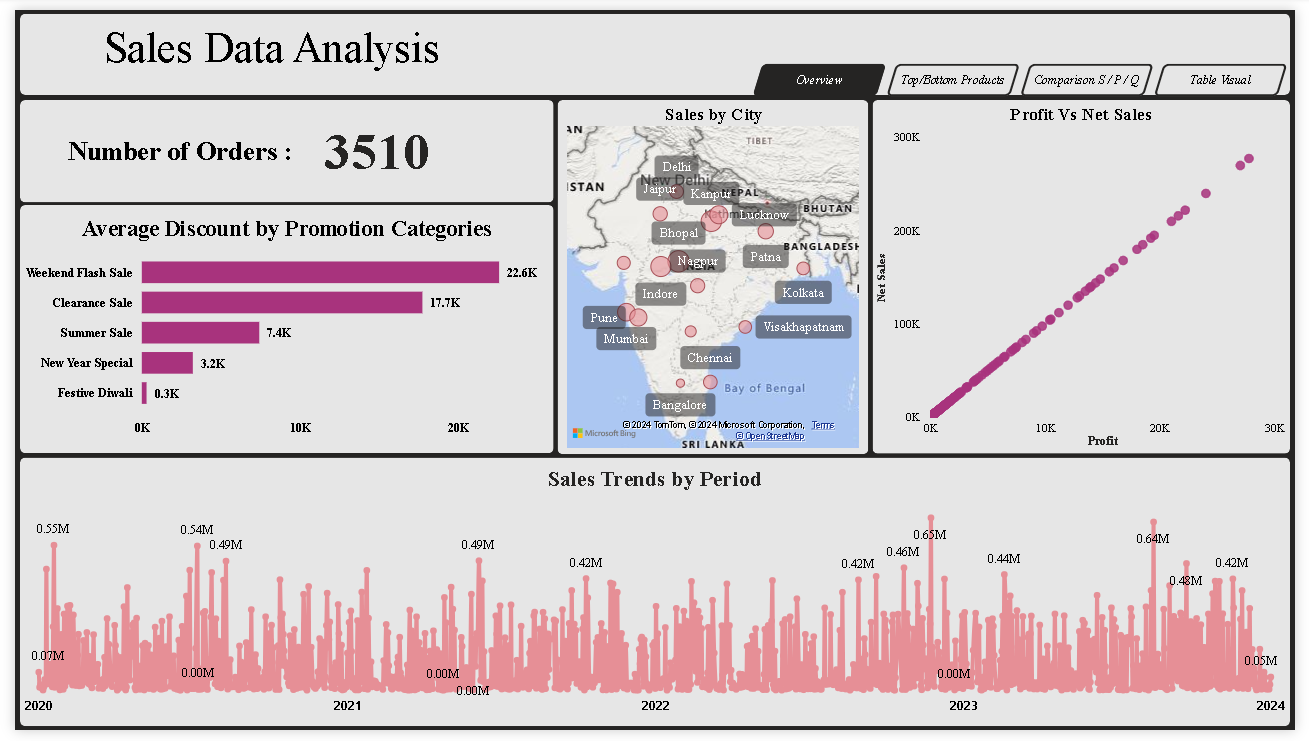

The page's visual inventory and layout, read from the dashboard file:
{"tool":"powerbi","page":{"name":"Overview","canvas":[1280,720],"ordinal":0},"visuals":[{"type":"shape","box":[5,3.8,1270,81.2],"z":0},{"type":"shape","box":[5,447.5,1270,268.8],"z":1000},{"type":"lineChart","title":"Sales Trends by Period","fields":{"Y":["Sum(fact table.Net Sales  )"],"Category":["fact table.Date (dd/mm/yyyy).Variation.Date Hierarchy.Year"]},"box":[5,456.2,1270,257.5],"z":2000},{"type":"shape","box":[857.5,90,417.5,353.8],"z":3000},{"type":"scatterChart","title":"Profit Vs Net Sales  ","fields":{"X":["fact table.Profit"],"Y":["fact table.Net Sales  "]},"box":[857.5,93.8,417.5,350],"z":4000},{"type":"shape","box":[4.8,195.2,533.7,248.2],"z":5000},{"type":"shape","box":[542.2,90.4,310.8,354.2],"z":6000},{"type":"barChart","title":"Average Discount by Promotion Categories","fields":{"Y":["Avg(fact table.Discount Value)"],"Category":["Dim Promotion.Promotion Name"]},"box":[4.8,204.8,533.7,228.9],"z":7000},{"type":"map","title":"Sales by City","fields":{"Category":["Dim Customers.City"],"Size":["Sum(fact table.Net Sales  )"]},"box":[547,94,302.4,349.4],"z":8000},{"type":"shape","box":[5,90,533.8,102.5],"z":9000},{"type":"textbox","box":[47.5,121.2,268.8,71.2],"z":10000},{"type":"card","fields":{"Values":["Count(fact table.Order ID)"]},"box":[255,103.8,213.8,67.5],"z":11000},{"type":"actionButton","box":[871.2,53.8,133.8,32.5],"z":12000},{"type":"actionButton","box":[737.5,53.8,133.8,32.5],"z":13000},{"type":"actionButton","box":[1005,53.8,133.8,32.5],"z":14000},{"type":"actionButton","box":[1138.8,53.8,133.8,32.5],"z":14001},{"type":"textbox","box":[20,10,503.8,70],"z":14002}]}

Visuals, with their boxes in screenshot pixels (x1, y1, x2, y2), scaled from the page's 1280x720 canvas onto the 1309x741 screenshot:
shape: box(5, 4, 1304, 87)
shape: box(5, 461, 1304, 737)
"Sales Trends by Period" lineChart: box(5, 470, 1304, 735)
shape: box(877, 93, 1304, 457)
"Profit Vs Net Sales  " scatterChart: box(877, 97, 1304, 457)
shape: box(5, 201, 551, 456)
shape: box(554, 93, 872, 458)
"Average Discount by Promotion Categories" barChart: box(5, 211, 551, 446)
"Sales by City" map: box(559, 97, 869, 456)
shape: box(5, 93, 551, 198)
textbox: box(49, 125, 323, 198)
card - Count(fact table.Order ID): box(261, 107, 479, 176)
actionButton: box(891, 55, 1028, 89)
actionButton: box(754, 55, 891, 89)
actionButton: box(1028, 55, 1165, 89)
actionButton: box(1165, 55, 1301, 89)
textbox: box(20, 10, 536, 82)
